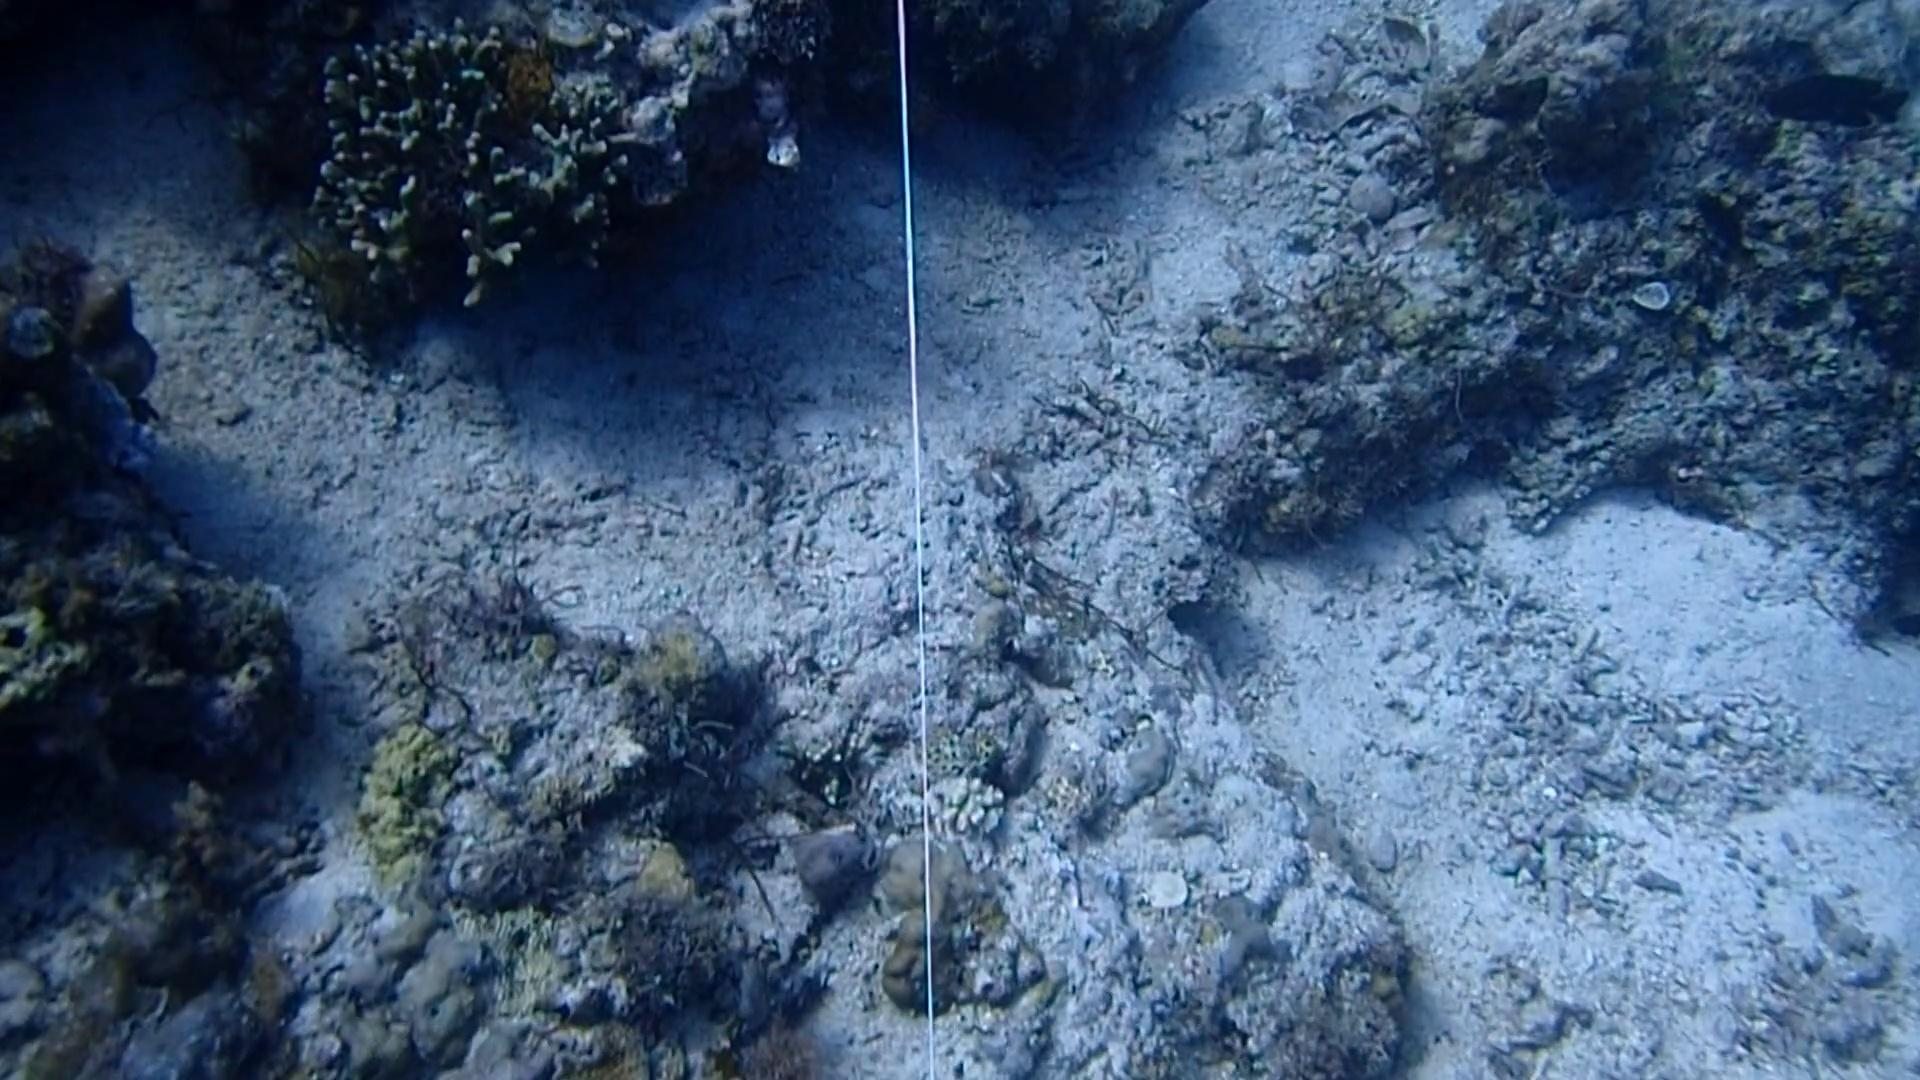Dark Fish: (1760, 47, 1905, 144), (1675, 181, 1760, 258)
